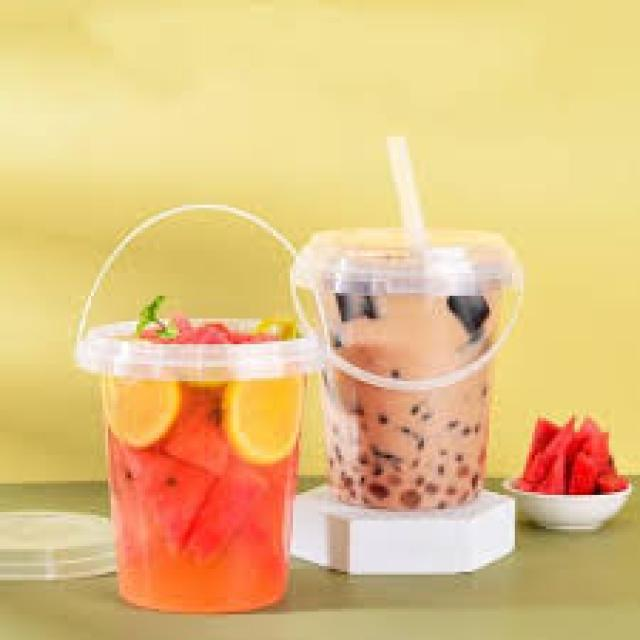bottle: (76, 321, 318, 612), (295, 231, 521, 509)
